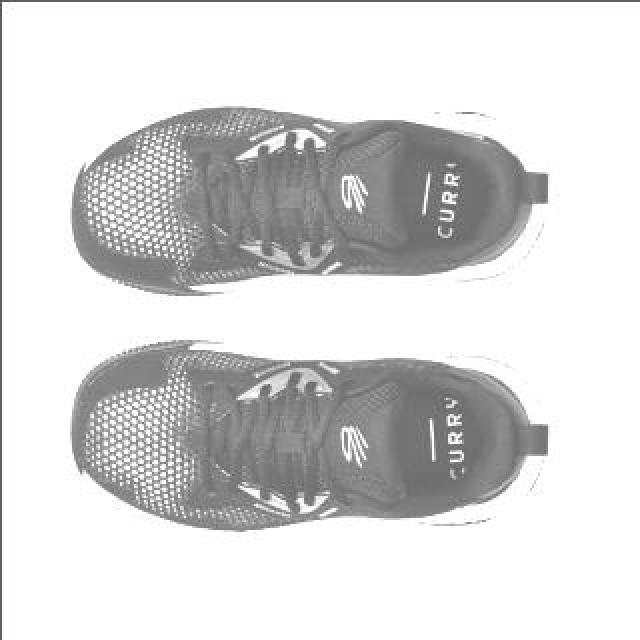shoe: (61, 88, 553, 302), (60, 334, 547, 540), (67, 336, 549, 538), (69, 98, 549, 296)
